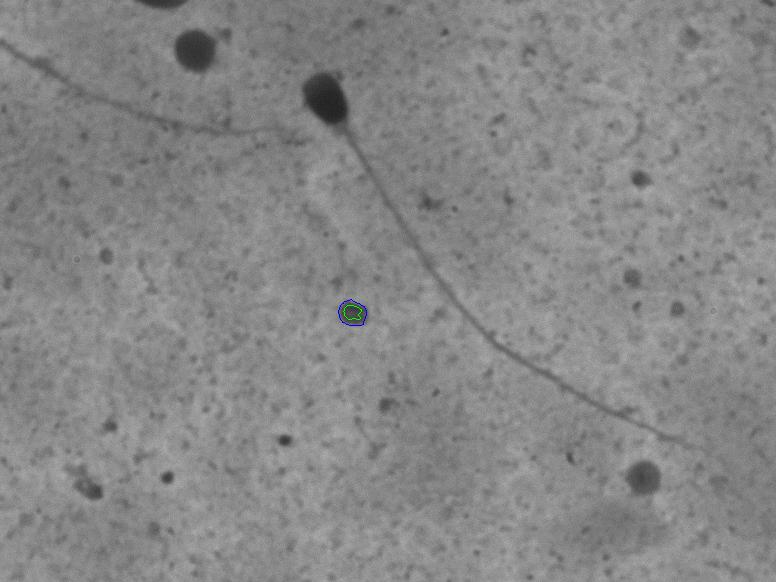Normal: (290, 58, 728, 473)
